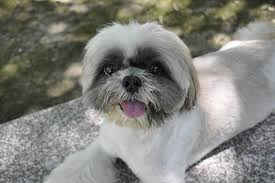dog: (29, 5, 275, 182)
